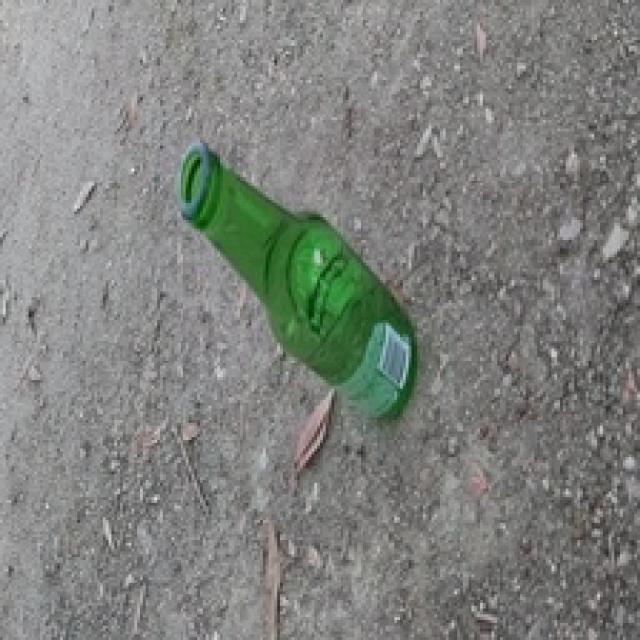Glass: (176, 136, 417, 422)
